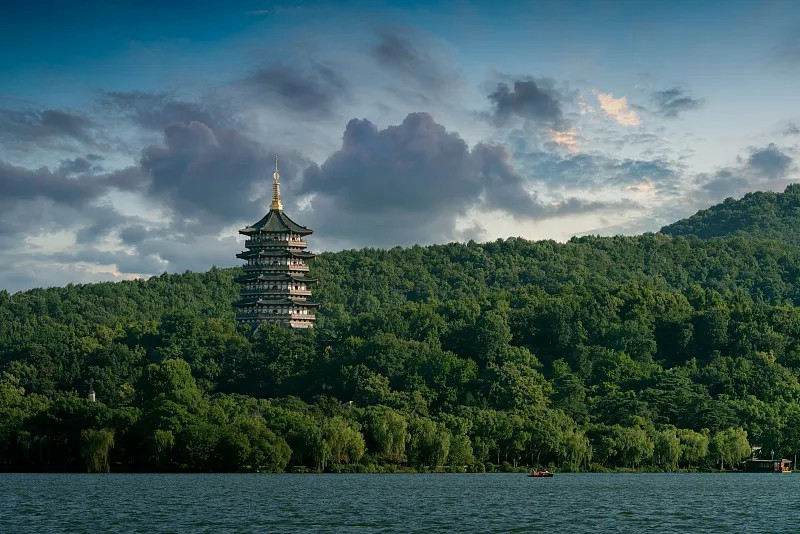Leifeng: (230, 154, 321, 335)
